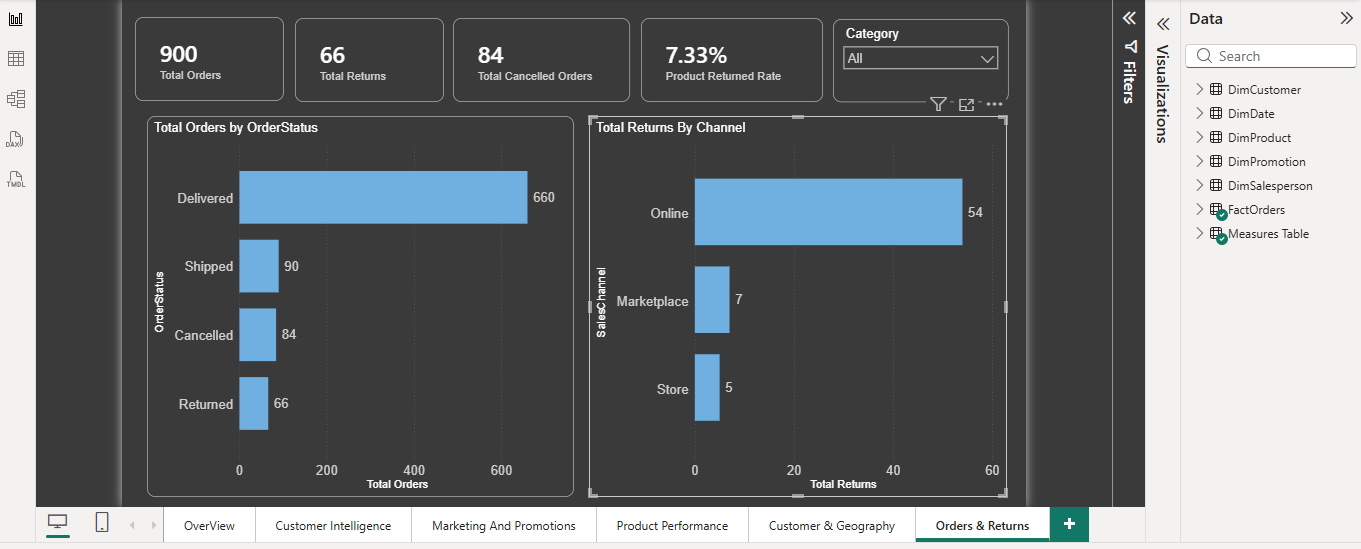

This screenshot's page, from the dashboard's own definition file:
{"tool":"powerbi","page":{"name":"Orders & Returns","canvas":[1280,720],"ordinal":5},"visuals":[{"type":"cardVisual","fields":{"Data":["Measures Table.Total Orders"]},"box":[18.4,25.5,211.2,119.1],"z":0},{"type":"cardVisual","fields":{"Data":["Measures Table.Total Returns"]},"box":[245.2,26.9,211.2,119.1],"z":1000},{"type":"cardVisual","fields":{"Data":["Measures Table.Total Cancelled Orders"]},"box":[469.1,26.9,250.9,119.1],"z":2000},{"type":"cardVisual","fields":{"Data":["Measures Table.Product Returned Rate"]},"box":[735.6,26.9,258,119.1],"z":3000},{"type":"clusteredBarChart","fields":{"Category":["FactOrders.OrderStatus"],"Y":["Measures Table.Total Orders"]},"box":[35.4,165.8,605.2,415.3],"z":4000},{"type":"slicer","fields":{"Values":["DimProduct.Category"]},"box":[1007.7,28.3,249.4,117.6],"z":5000},{"type":"barChart","title":"Total Returns By Channel","fields":{"Category":["FactOrders.SalesChannel"],"Y":["Measures Table.Total Returns"]},"box":[661.9,165.8,592.4,415.3],"z":6000}]}

Visuals, with their boxes on the page's 1280x720 design canvas (x1, y1, x2, y2). These are canvas units, not pixel positions in the 1361x549 screenshot, which may show the page scaled, cropped or inside an application window:
cardVisual - Measures Table.Total Orders: x1=18 y1=26 x2=230 y2=145
cardVisual - Measures Table.Total Returns: x1=245 y1=27 x2=456 y2=146
cardVisual - Measures Table.Total Cancelled Orders: x1=469 y1=27 x2=720 y2=146
cardVisual - Measures Table.Product Returned Rate: x1=736 y1=27 x2=994 y2=146
clusteredBarChart - FactOrders.OrderStatus x Measures Table.Total Orders: x1=35 y1=166 x2=641 y2=581
slicer - DimProduct.Category: x1=1008 y1=28 x2=1257 y2=146
"Total Returns By Channel" barChart: x1=662 y1=166 x2=1254 y2=581
